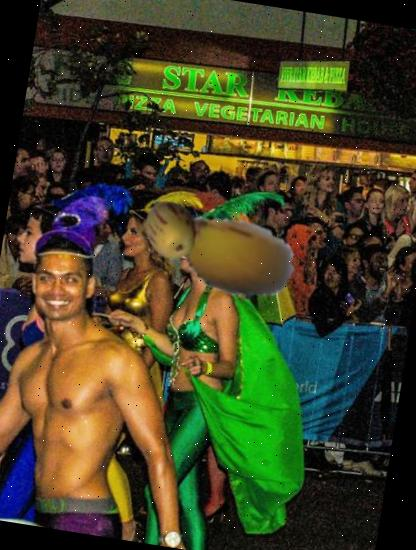Banana: (146, 176, 306, 334)
Pepino: (137, 197, 205, 265)
